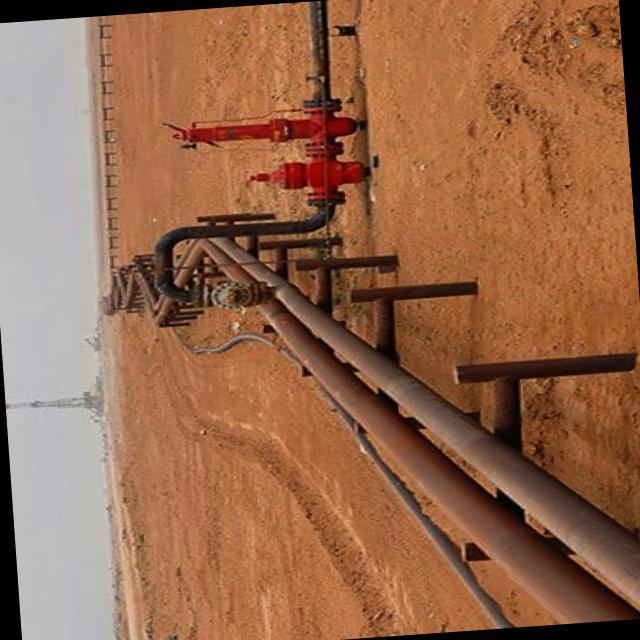gas: (214, 236, 640, 609), (260, 300, 640, 624)
